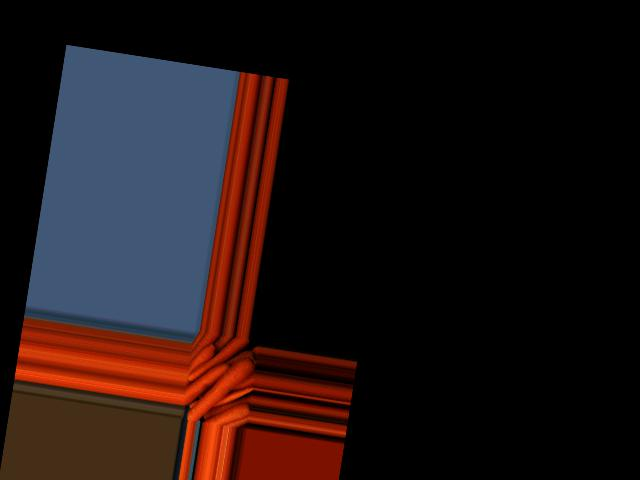carrot: (189, 330, 244, 386)
